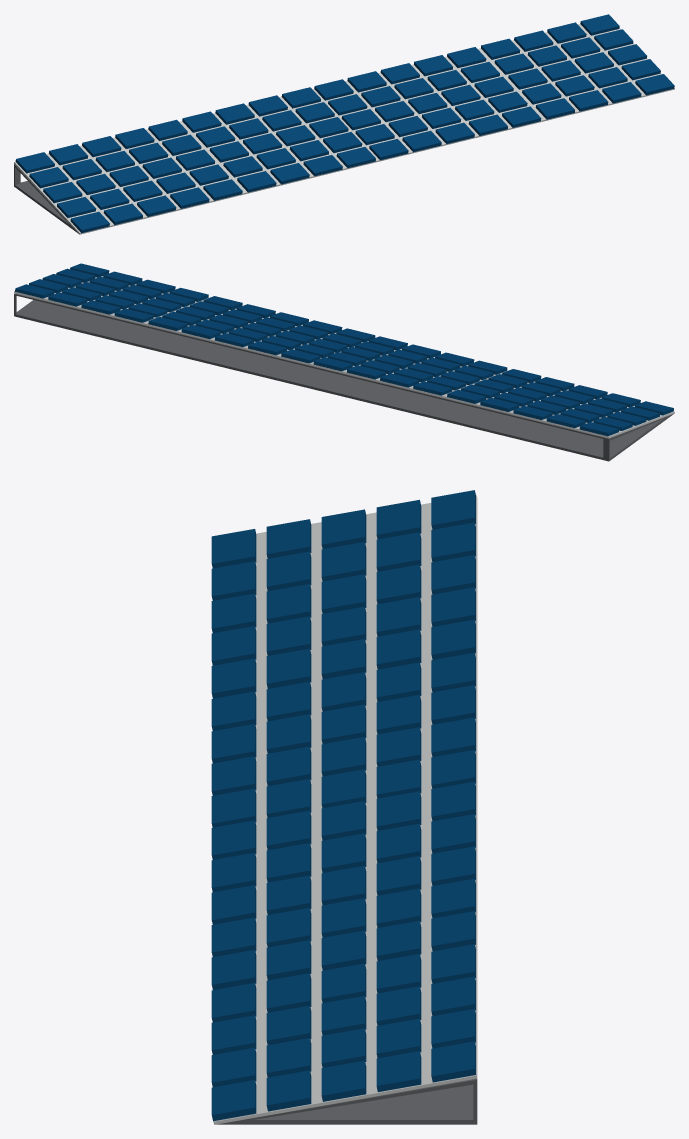
Rendered from Solar Panel 5x18 small.glb.
3 renders of one model, top to bottom at view 1: azimuth 30°, elevation 25°; view 2: azimuth 150°, elevation 25°; view 3: azimuth 270°, elevation 25°, orthographic. The views are drawn at different scales.
Parts seen in each view (by area): view 1: Mesh_Mesh_head_geo.001_lambert2SG.001; view 2: Mesh_Mesh_head_geo.001_lambert2SG.001; view 3: Mesh_Mesh_head_geo.001_lambert2SG.001.
Part boxes in pixels (bbox=[...]): Mesh_Mesh_head_geo.001_lambert2SG.001: bbox=[14, 14, 674, 234]; Mesh_Mesh_head_geo.001_lambert2SG.001: bbox=[14, 263, 674, 461]; Mesh_Mesh_head_geo.001_lambert2SG.001: bbox=[211, 490, 477, 1124].
Size of the model in its own units: 554 by 24.65 by 107.
